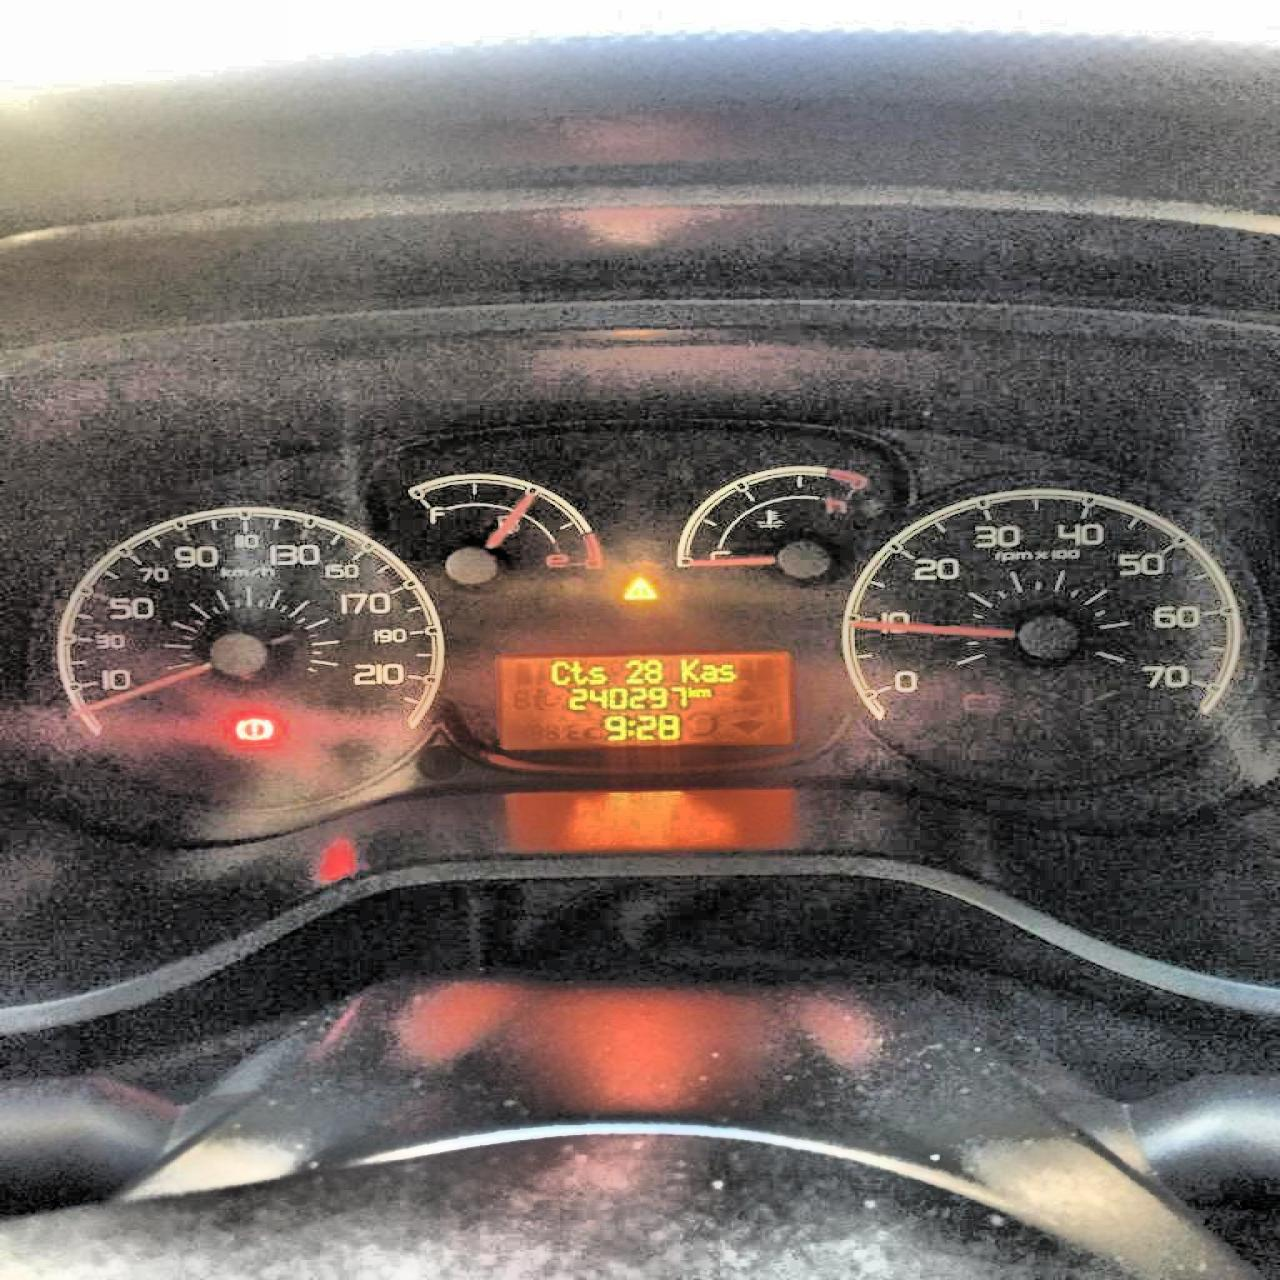0: (606, 686, 626, 709)
2: (567, 686, 588, 709), (624, 659, 644, 683), (635, 714, 655, 738), (628, 687, 645, 708)
4: (588, 688, 607, 708)
7: (668, 685, 687, 709)
8: (655, 714, 679, 738), (644, 659, 662, 683)
9: (601, 714, 625, 740), (647, 685, 667, 707)
X: (549, 659, 570, 685), (679, 658, 699, 682), (568, 660, 587, 685), (586, 665, 606, 685), (716, 663, 735, 681), (699, 663, 716, 681), (625, 719, 635, 734), (695, 688, 710, 696), (687, 686, 696, 696)
odometer: (495, 651, 795, 751)
